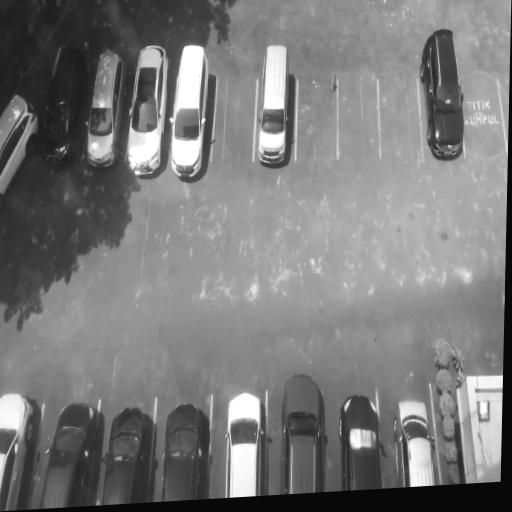Car: (40, 393, 104, 506), (418, 26, 467, 165), (99, 396, 158, 505), (170, 38, 213, 184), (159, 390, 214, 501), (127, 38, 169, 182), (40, 45, 87, 172), (254, 40, 297, 174), (283, 373, 330, 495), (220, 385, 270, 496), (0, 82, 43, 206), (0, 391, 45, 509), (391, 392, 444, 485), (86, 45, 122, 178), (341, 380, 383, 489)
Space Available: (336, 61, 382, 165), (378, 59, 422, 167), (213, 64, 257, 169), (463, 57, 507, 162), (296, 70, 338, 169)
